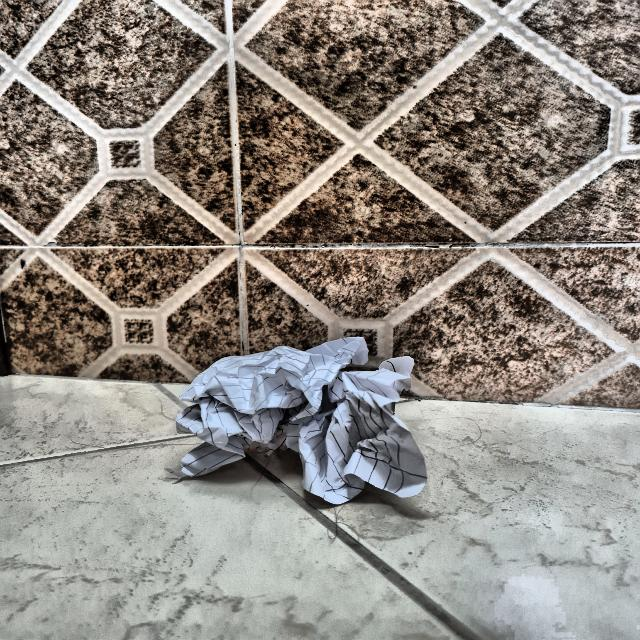Paper: (168, 332, 428, 501)
